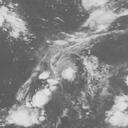cyclone: (52, 53, 88, 92)
